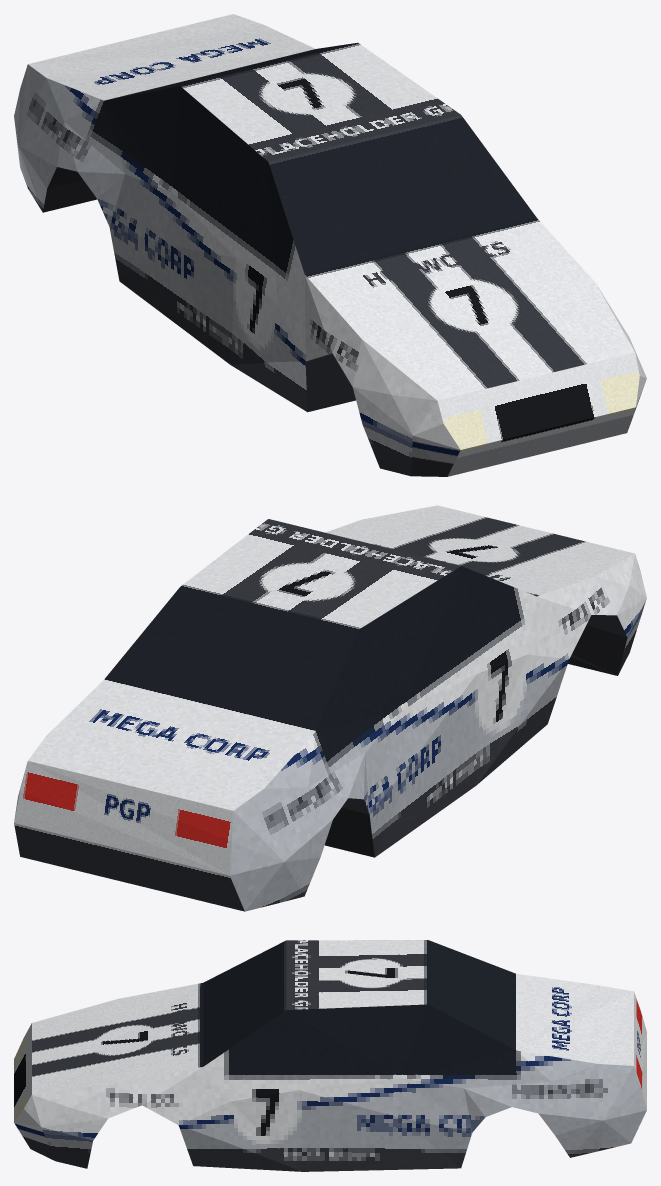
Rendered from white7.gltf.
3 views of the same model, one above another, from view 1: azimuth 30°, elevation 25°; view 2: azimuth 150°, elevation 25°; view 3: azimuth 270°, elevation 25° (orthographic). The views are drawn at different scales.
Bounding box in the file's own units: 0.5989 × 0.4337 × 1.6.
Materials: 1 (1 with a texture image).
